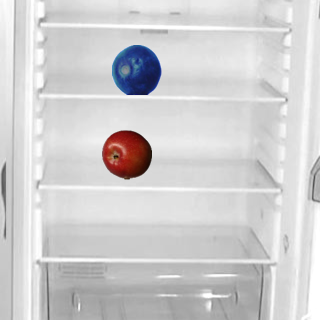Apple Braeburn: (101, 129, 151, 179)
Huckleberry: (111, 44, 161, 94)
